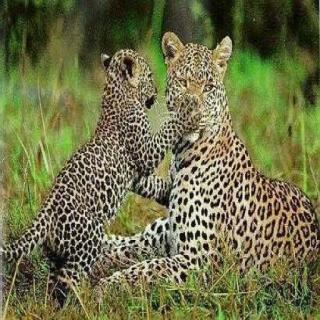Leopard: (116, 18, 320, 307), (32, 45, 187, 302)
